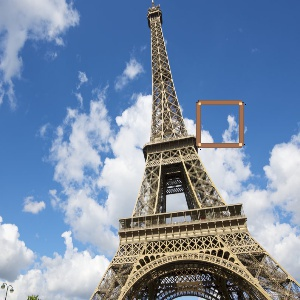square: (194, 99, 246, 149)
